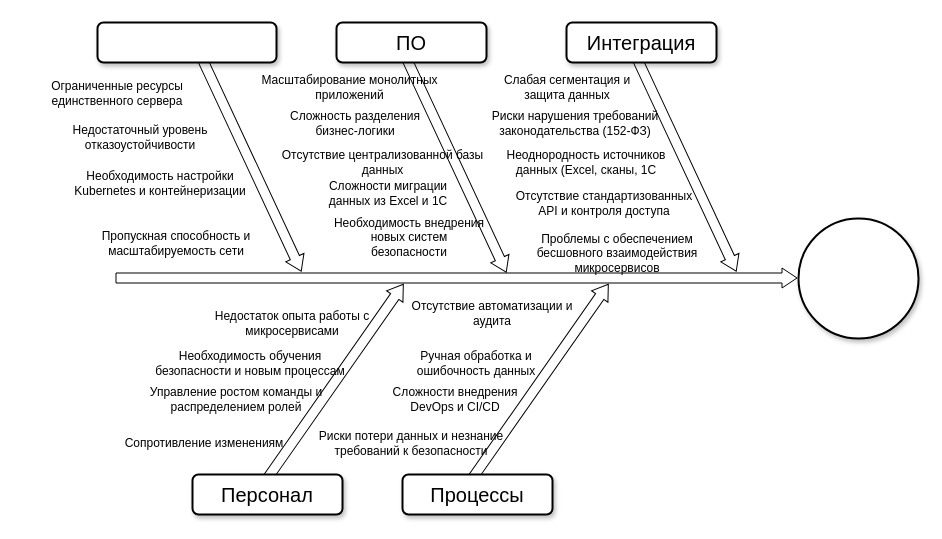
The diagram is 942 pixels wide and 539 high, and some of its shapes have lost their labels. Here are the shapes that lost their labels. From the top down, the centre of each, then its label:
(187,43): Инфраструктура
(859,279): Проблемы
